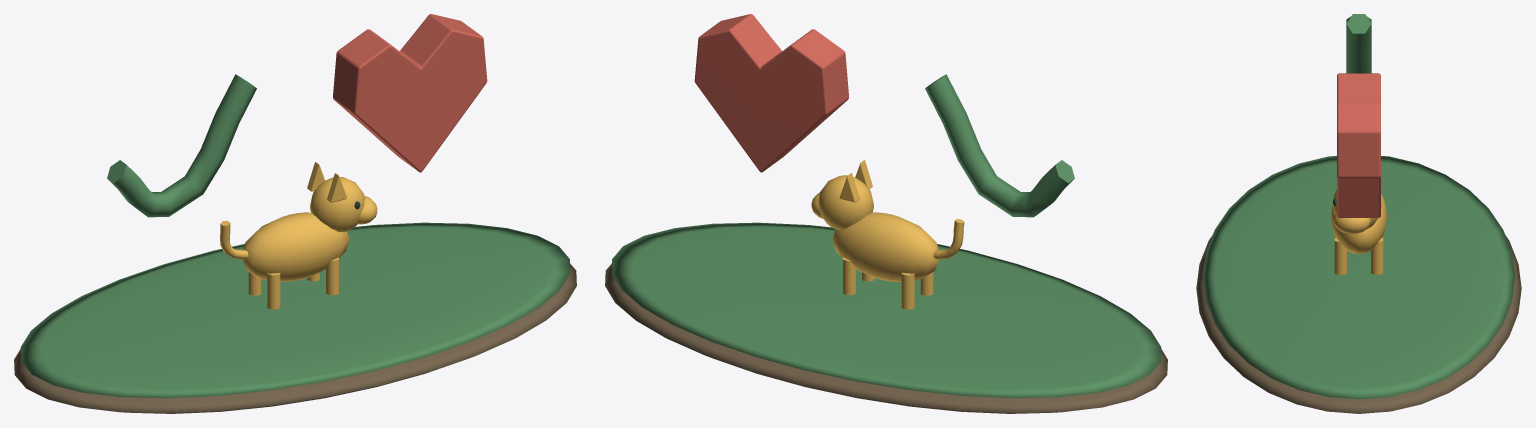
Rendered from complete-first-cute-approved-heart.glb.
3 renders of one model, left to right at view 1: azimuth 30°, elevation 25°; view 2: azimuth 150°, elevation 25°; view 3: azimuth 270°, elevation 25°, orthographic. The views are drawn at different scales.
Parts seen in each view (by area): view 1: complete-first-cute-approved-heart_surface_01, complete-first-cute-approved-heart_surface_02, complete-first-cute-approved-heart_surface_03, complete-first-cute-approved-heart_surface_00; view 2: complete-first-cute-approved-heart_surface_01, complete-first-cute-approved-heart_surface_02, complete-first-cute-approved-heart_surface_00, complete-first-cute-approved-heart_surface_03; view 3: complete-first-cute-approved-heart_surface_01, complete-first-cute-approved-heart_surface_02, complete-first-cute-approved-heart_surface_00, complete-first-cute-approved-heart_surface_03.
Boxes of the visible parts, x1,y1,x2,y2 form: complete-first-cute-approved-heart_surface_01: (20, 74, 570, 398); complete-first-cute-approved-heart_surface_02: (333, 14, 487, 172); complete-first-cute-approved-heart_surface_03: (220, 162, 377, 309); complete-first-cute-approved-heart_surface_00: (14, 263, 576, 413); complete-first-cute-approved-heart_surface_01: (611, 74, 1161, 398); complete-first-cute-approved-heart_surface_02: (694, 14, 848, 172); complete-first-cute-approved-heart_surface_00: (605, 263, 1167, 413); complete-first-cute-approved-heart_surface_03: (811, 160, 964, 309); complete-first-cute-approved-heart_surface_01: (1203, 14, 1514, 399); complete-first-cute-approved-heart_surface_02: (1337, 73, 1380, 217); complete-first-cute-approved-heart_surface_00: (1196, 235, 1521, 413); complete-first-cute-approved-heart_surface_03: (1330, 190, 1387, 274).
Bounding box in the file's own units: 4.56 × 2.28 × 2.5.
